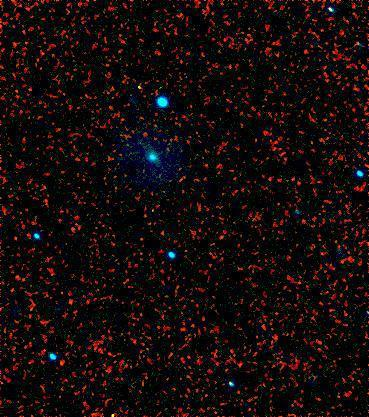star: (119, 72, 149, 102)
